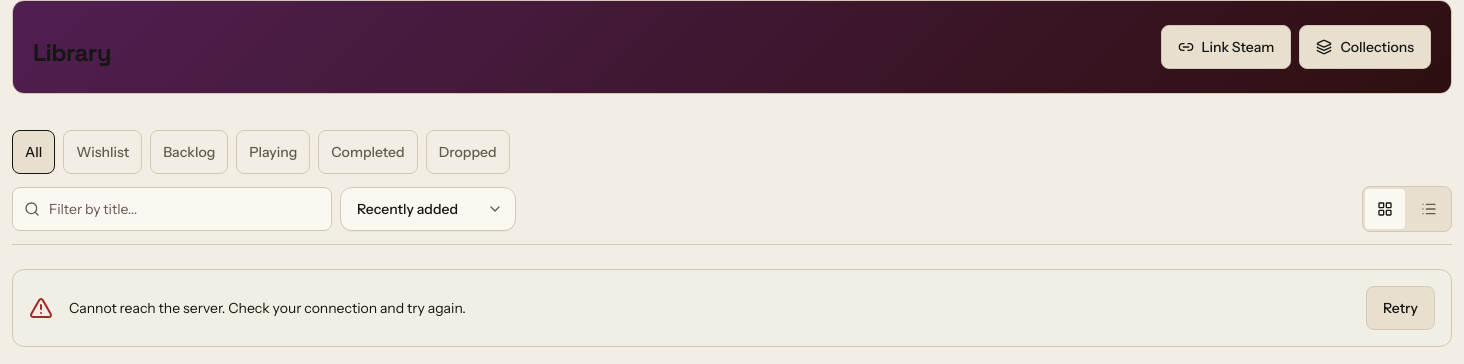
Library page › shows an error with Retry
The width and height of the screenshot is (1464, 364).
Expected: the message "Cannot reach the server. Check your connection and try again. Retry" is shown, [12, 269, 1452, 347]
Click the button "Retry" at {"x": 1400, "y": 308}, box [1366, 286, 1435, 330]
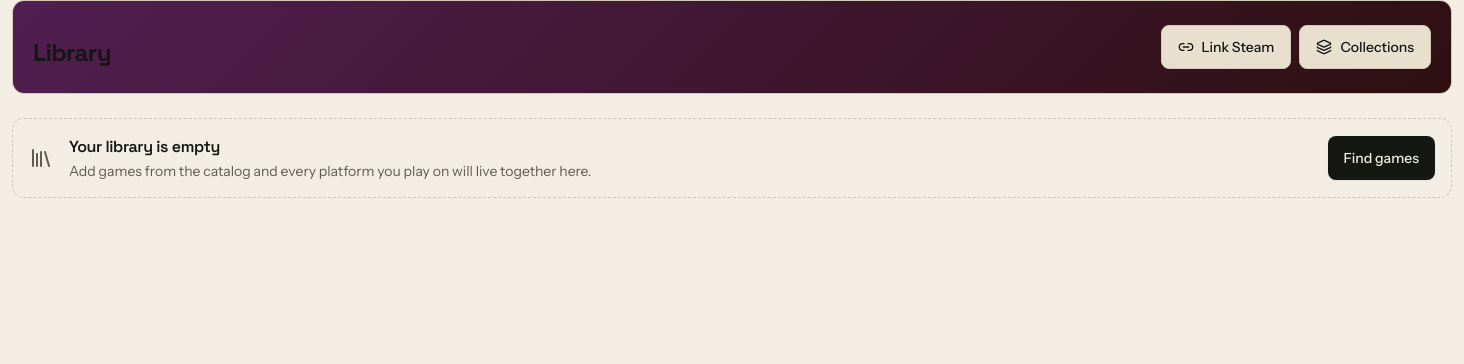
Expected: the heading "Your library is empty" is shown, [69, 136, 220, 157]
